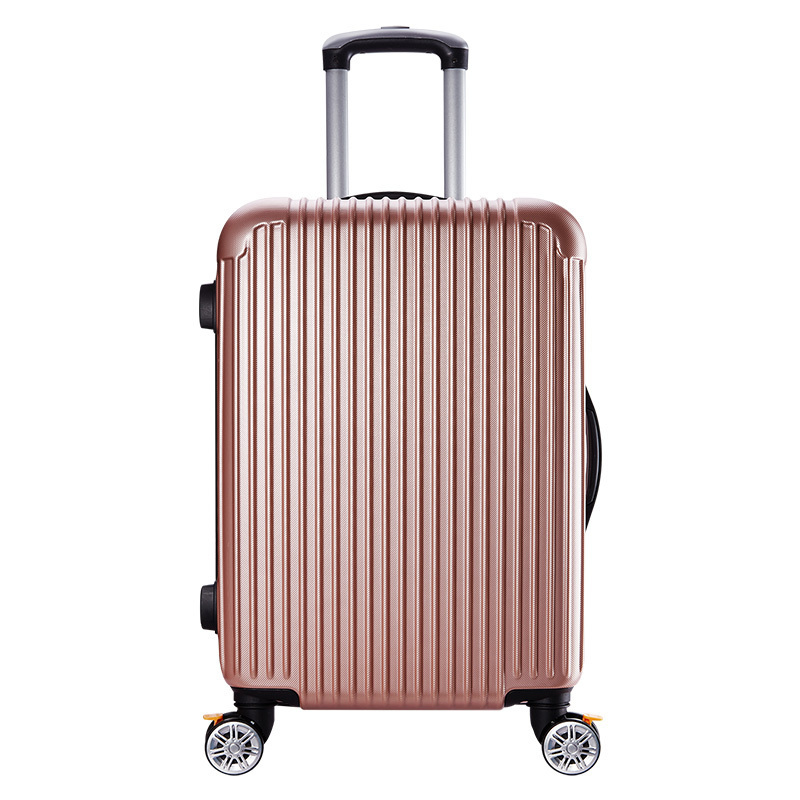box: (216, 198, 585, 709)
handle: (586, 387, 603, 532)
wheel: (203, 711, 264, 776), (542, 712, 602, 776)
